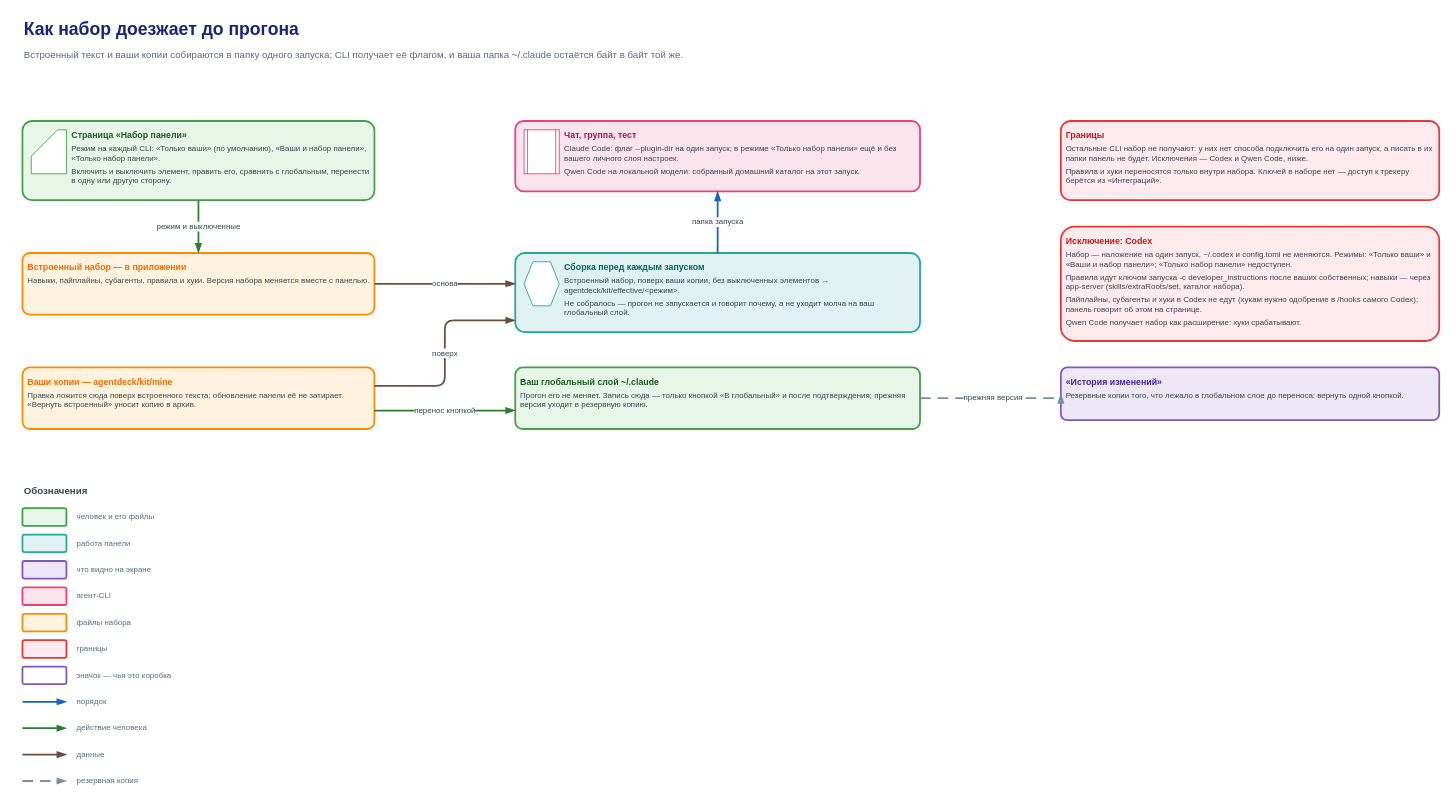
Image size: 1455x804. Some labels were removed from this diagram. Each missing label, with the box of its shape:
CLI: (523, 129, 559, 174)
вы: (30, 129, 66, 174)
сборка: (523, 261, 559, 306)
